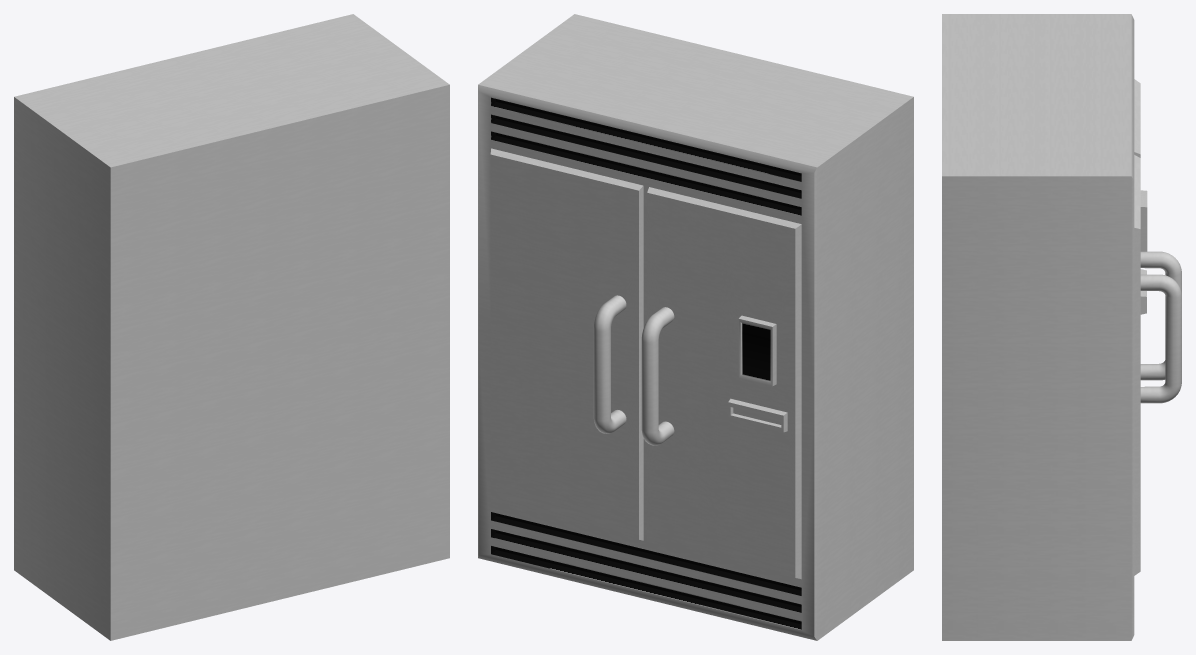
Rendered from Fridge.fbx.
3 renders of one model, left to right at view 1: azimuth 30°, elevation 25°; view 2: azimuth 150°, elevation 25°; view 3: azimuth 270°, elevation 25°, orthographic.
Parts seen in each view (by area): view 1: Fridge.002; view 2: Fridge.002; view 3: Fridge.002.
Boxes of the visible parts, <box> form: Fridge.002: <box>14,14,449,640</box>; Fridge.002: <box>478,14,913,640</box>; Fridge.002: <box>942,14,1181,640</box>.
Size of the model in its own units: 3 by 1.87 by 4.
